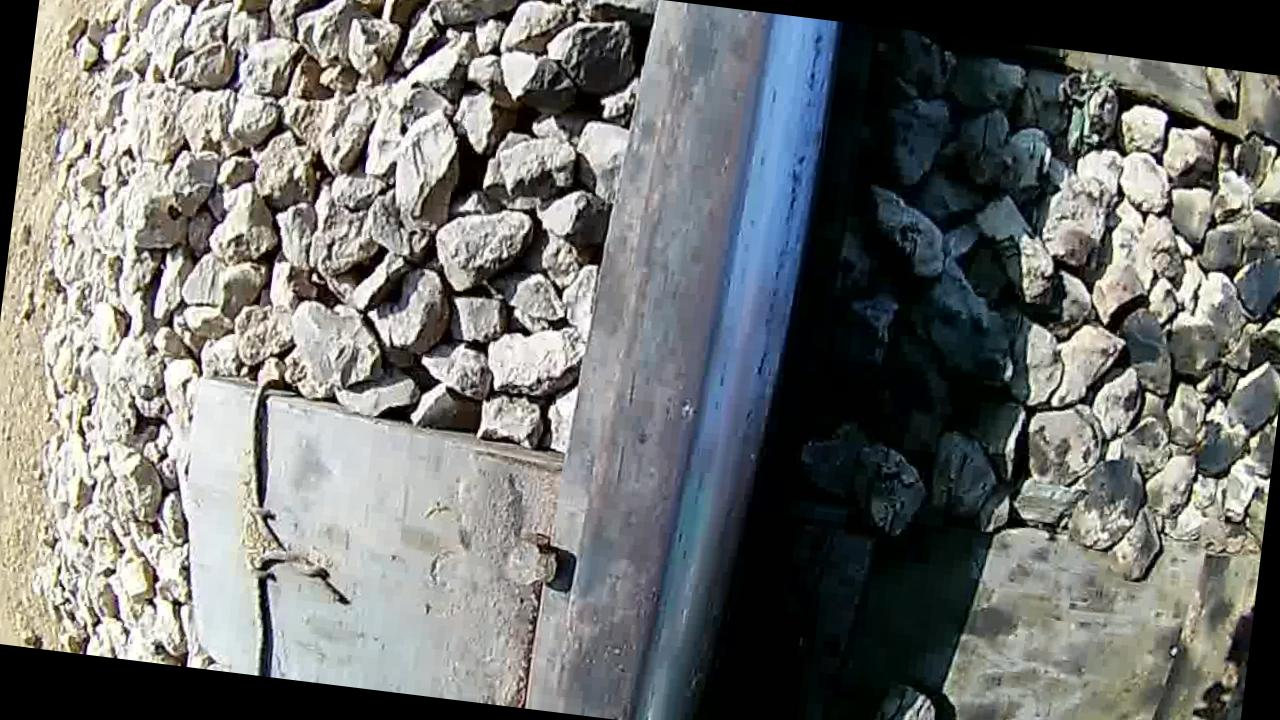crack: (589, 5, 839, 720)
